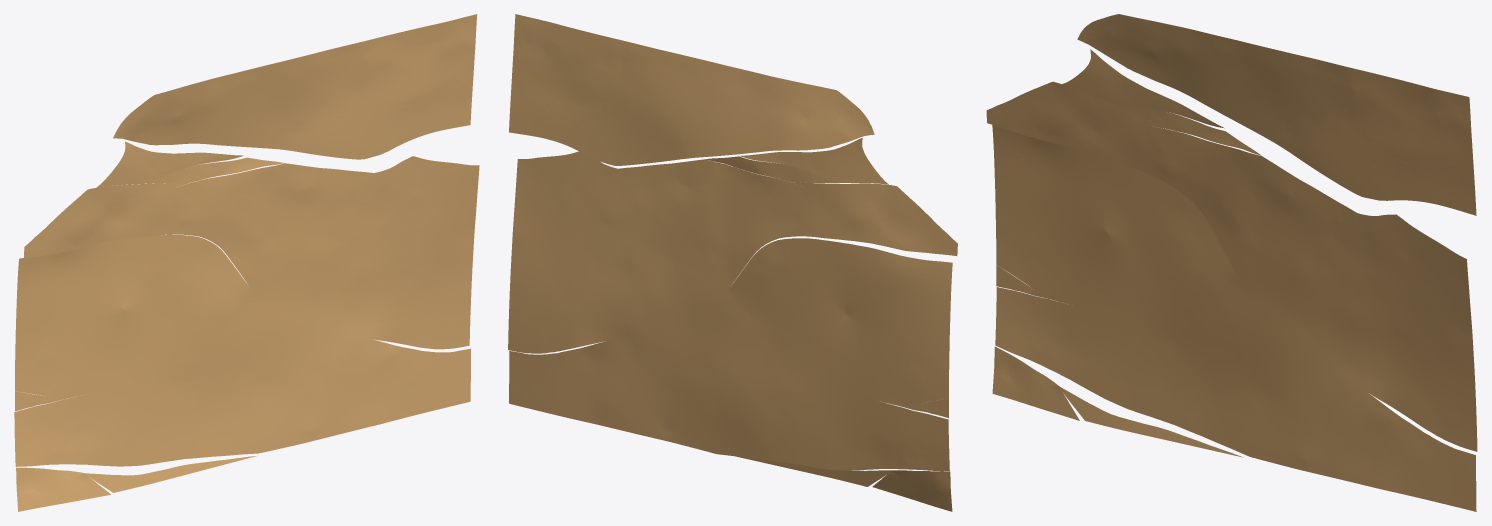
Rendered from 10_AirdrieBlackbandCoal_50m_GGERFS_Predrill.gltf.
The picture shows the model from 3 angles, left to right: view 1: azimuth 30°, elevation 25°; view 2: azimuth 150°, elevation 25°; view 3: azimuth 330°, elevation 25°; orthographic projection. The views are drawn at different scales.
Parts seen in each view (by area): view 1: 10_AIRDRIEBLACKBANDCOAL_50M_GGERFS_PREDRILL; view 2: 10_AIRDRIEBLACKBANDCOAL_50M_GGERFS_PREDRILL; view 3: 10_AIRDRIEBLACKBANDCOAL_50M_GGERFS_PREDRILL.
Part boxes in pixels (bbox=[...]): 10_AIRDRIEBLACKBANDCOAL_50M_GGERFS_PREDRILL: bbox=[14, 14, 479, 511]; 10_AIRDRIEBLACKBANDCOAL_50M_GGERFS_PREDRILL: bbox=[508, 14, 957, 511]; 10_AIRDRIEBLACKBANDCOAL_50M_GGERFS_PREDRILL: bbox=[986, 14, 1477, 511].
Bounding box in the file's own units: 5005 × 4150 × 248.
